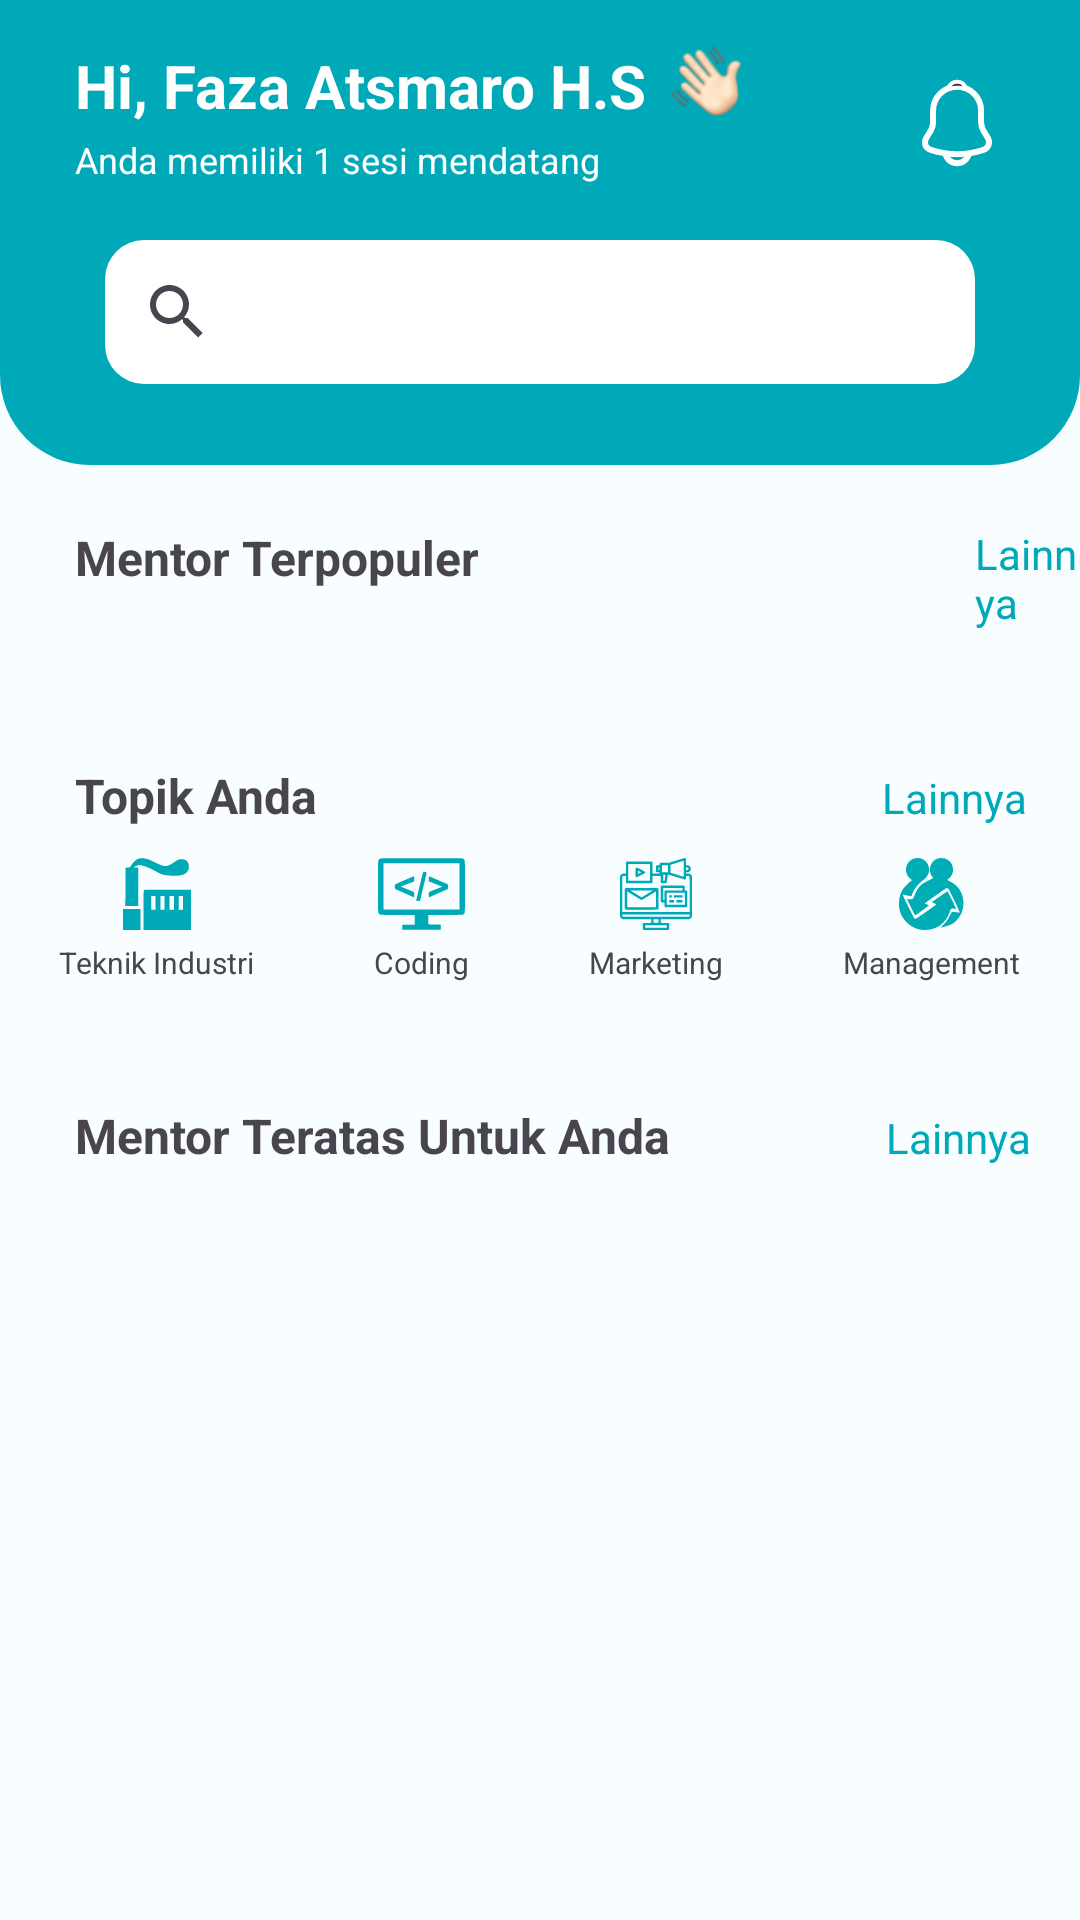

Icon click points for this 1080×1920 phone screenshot, format (x,y):
gambar hai: (706,81)
notification putihdz: (957,123)
